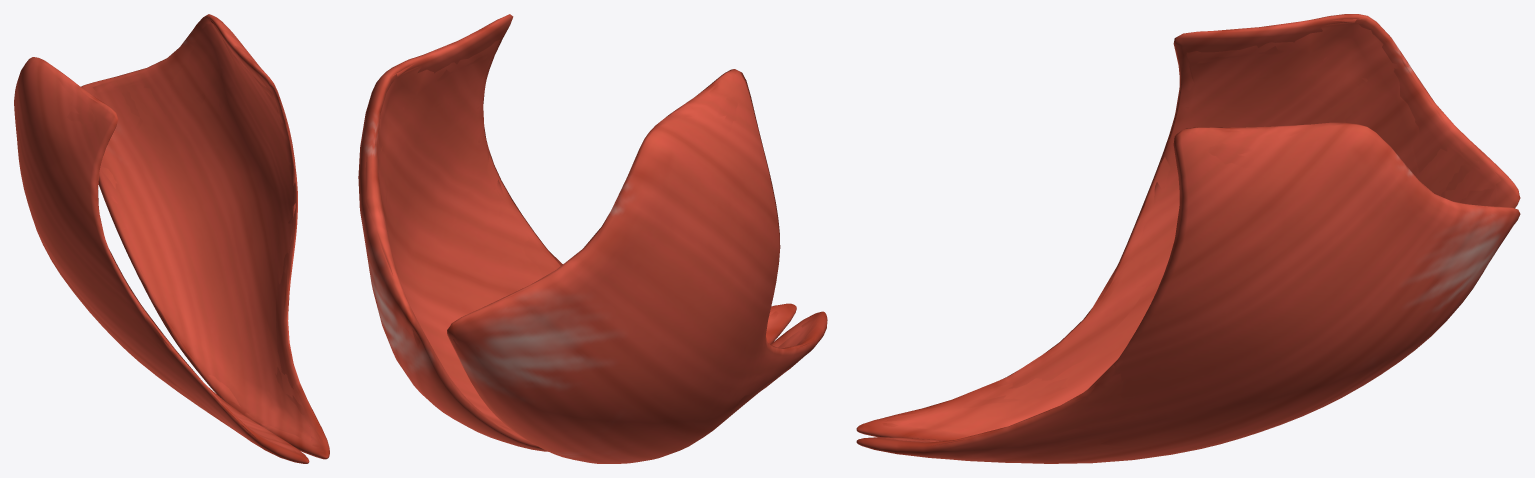
File: Transversus Abdominis.fbx
3 renders of one model, left to right at view 1: azimuth 30°, elevation 25°; view 2: azimuth 150°, elevation 25°; view 3: azimuth 270°, elevation 25°, orthographic. The views are drawn at different scales.
Visible parts, largest first — view 1: Transversus Abdominis low, Transversus Abdominis; view 2: Transversus Abdominis, Transversus Abdominis low; view 3: Transversus Abdominis, Transversus Abdominis low.
Boxes of the visible parts, x1=… form: Transversus Abdominis low: x1=22, y1=17, x2=324, y2=456; Transversus Abdominis: x1=14, y1=14, x2=329, y2=463; Transversus Abdominis: x1=358, y1=14, x2=827, y2=463; Transversus Abdominis low: x1=365, y1=24, x2=819, y2=442; Transversus Abdominis: x1=856, y1=14, x2=1520, y2=463; Transversus Abdominis low: x1=867, y1=18, x2=1507, y2=456.
Bounding box in the file's own units: 18.41 × 23.4 × 36.35.
